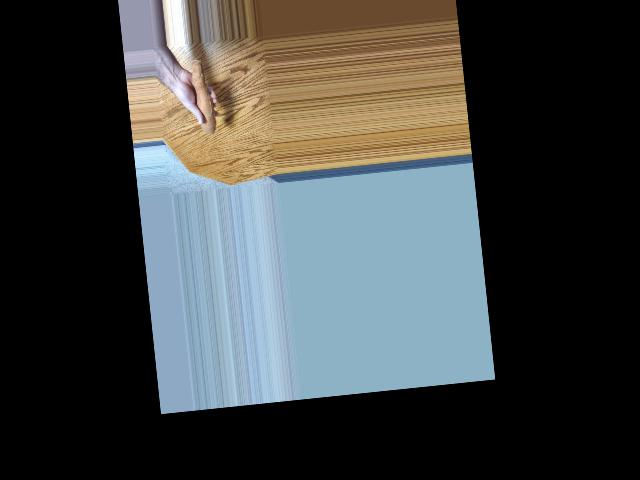sweet_potato: (185, 56, 217, 140)
